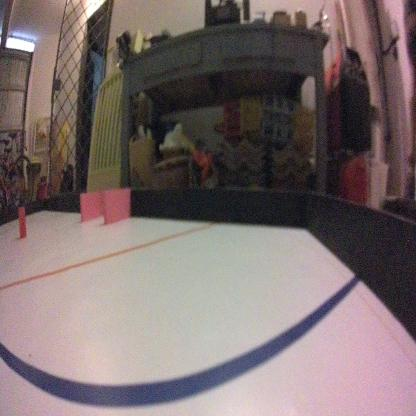magenta: (102, 186, 130, 227), (79, 187, 106, 220)
red: (17, 204, 26, 238)
